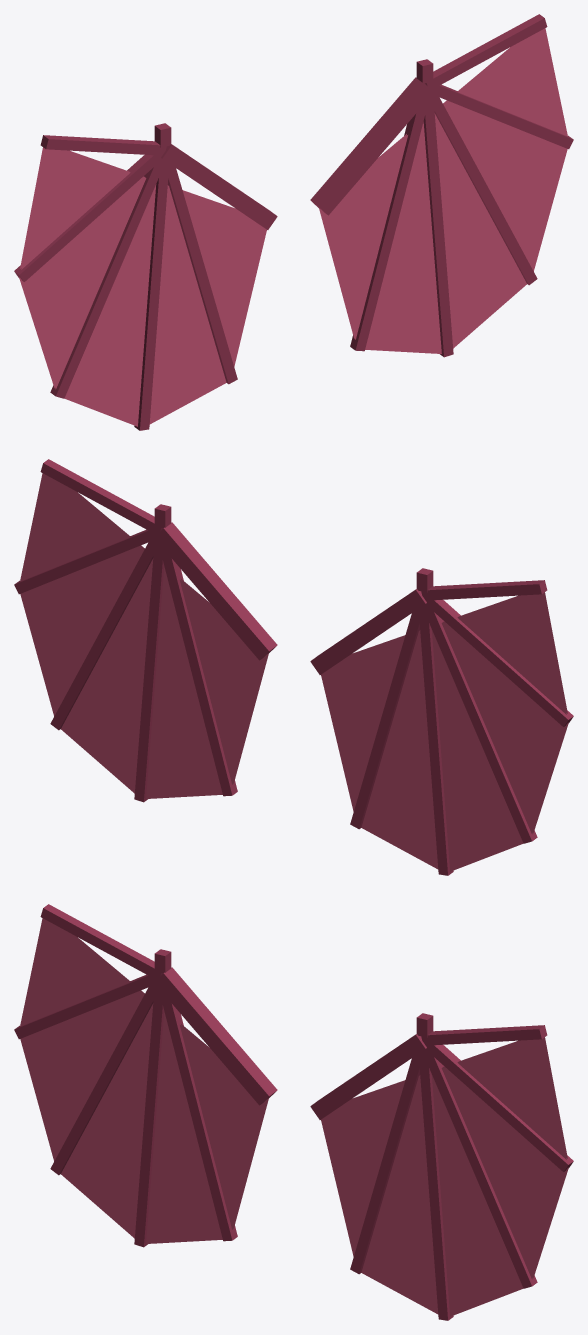
Rendered from asas_morcego_grandes.glb.
The picture shows the model from 3 angles, top to bottom: view 1: azimuth 30°, elevation 25°; view 2: azimuth 150°, elevation 25°; view 3: azimuth 330°, elevation 25°; orthographic projection.
Parts seen in each view (by area): view 1: asas_morcego_grandes; view 2: asas_morcego_grandes; view 3: asas_morcego_grandes.
Boxes of the visible parts, x1=… form: asas_morcego_grandes: x1=14, y1=14, x2=573, y2=430; asas_morcego_grandes: x1=14, y1=459, x2=573, y2=875; asas_morcego_grandes: x1=14, y1=904, x2=573, y2=1320.
Bounding box in the file's own units: 2.62 × 1.42 × 0.07.
